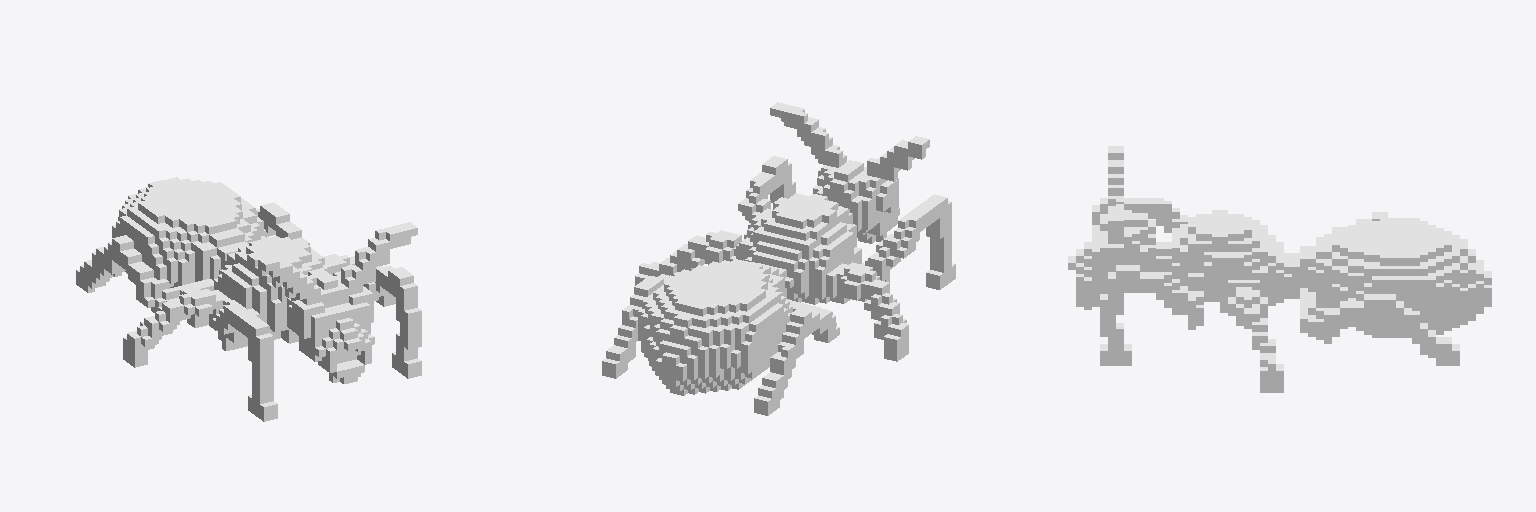
File: ant_attack_v2.0-2.obj
3 renders of one model, left to right at view 1: azimuth 30°, elevation 25°; view 2: azimuth 150°, elevation 25°; view 3: azimuth 270°, elevation 25°, orthographic.
Visible parts, largest first — view 1: object 1; view 2: object 1; view 3: object 1.
Boxes of the visible parts, x1=… form: object 1: x1=76, y1=177, x2=421, y2=421; object 1: x1=602, y1=102, x2=955, y2=415; object 1: x1=1068, y1=146, x2=1491, y2=392.
Size of the model in its own units: 3.8 by 2 by 5.3.